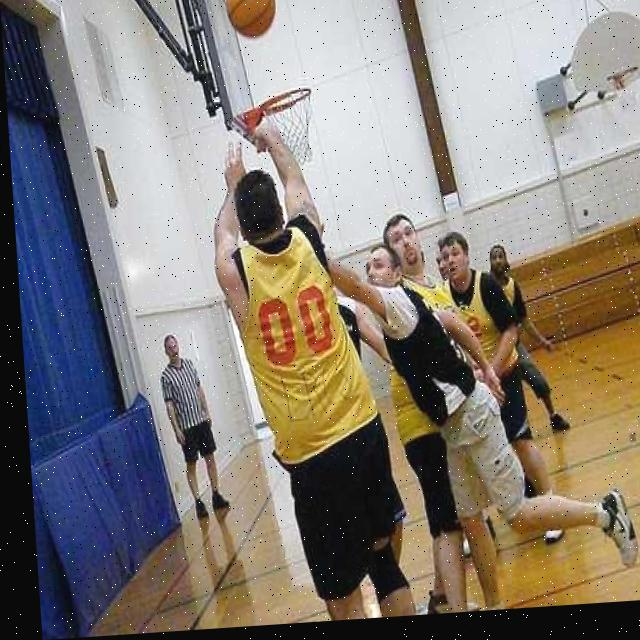basketball: (224, 0, 280, 43)
hoop: (258, 85, 318, 168), (605, 64, 640, 113)
